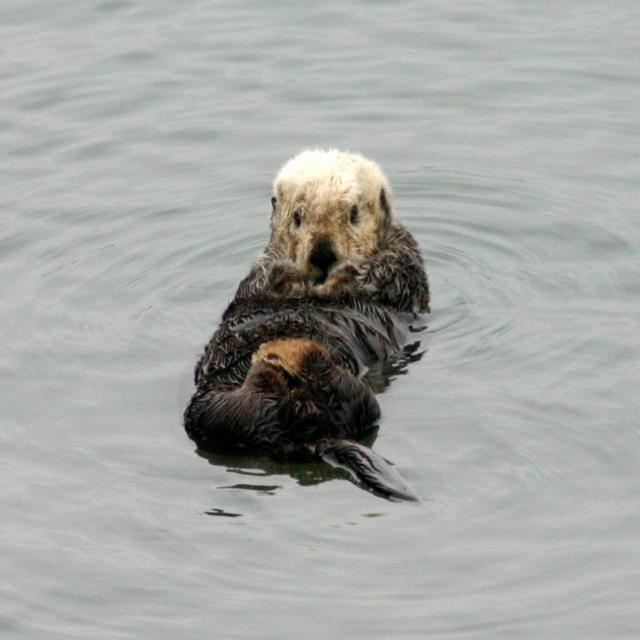otter: (195, 149, 429, 463)
